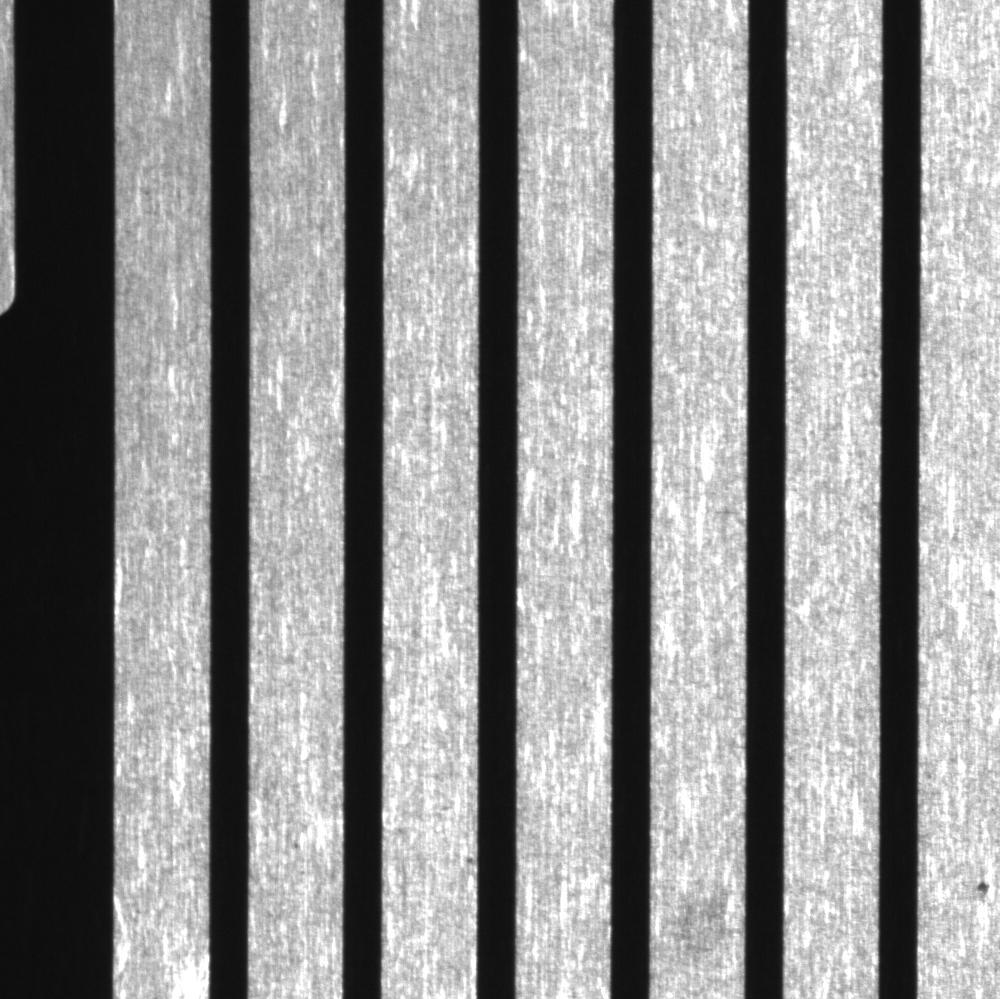Etching: (964, 866, 1000, 909), (454, 839, 482, 879)
Pinhole: (285, 831, 314, 859)
